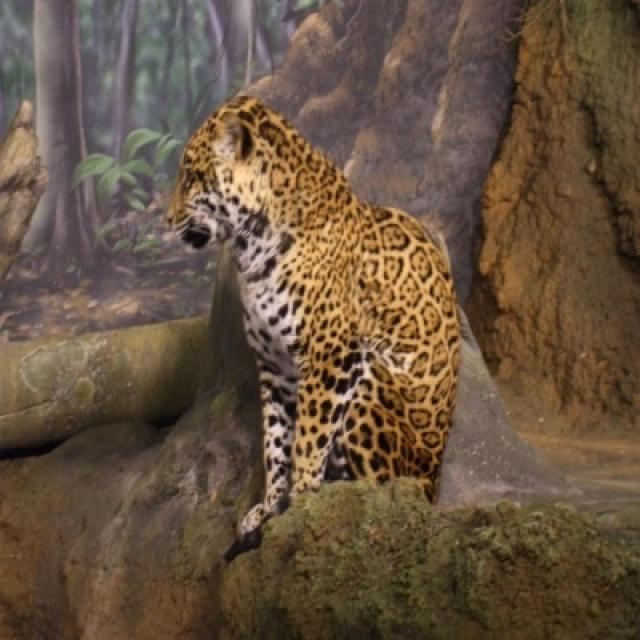Jaguar: (166, 93, 461, 518)
